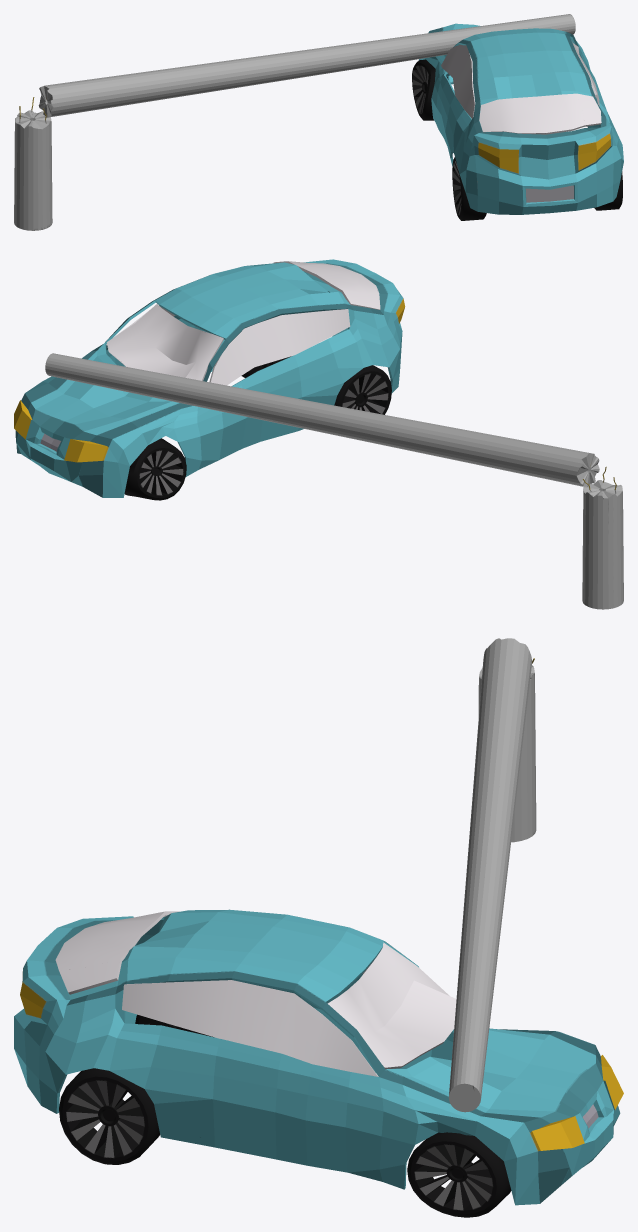
The model's file is cot_dien_gay new.fbx.
3 views of the same model, one above another, from view 1: azimuth 30°, elevation 25°; view 2: azimuth 150°, elevation 25°; view 3: azimuth 270°, elevation 25° (orthographic). The views are drawn at different scales.
Parts seen in each view (by area): view 1: Plane, Cylinder.004, Plane.001, Cylinder.002; view 2: Plane, Cylinder.004, Plane.001, Cylinder.002; view 3: Plane, Plane.001, Cylinder.004, Cylinder.002.
Part boxes in pixels (<box>): Plane: <box>418,23,623,214</box>; Cylinder.004: <box>14,14,575,230</box>; Plane.001: <box>441,42,601,134</box>; Cylinder.002: <box>412,59,622,220</box>; Plane: <box>14,259,405,497</box>; Cylinder.004: <box>45,353,623,609</box>; Plane.001: <box>106,261,380,385</box>; Cylinder.002: <box>124,356,391,500</box>; Plane: <box>14,909,623,1205</box>; Plane.001: <box>55,911,456,1076</box>; Cylinder.004: <box>448,638,536,1112</box>; Cylinder.002: <box>59,1014,511,1217</box>.
Size of the model in its own units: 667 by 151 by 414.
4 materials, 4 textured.
